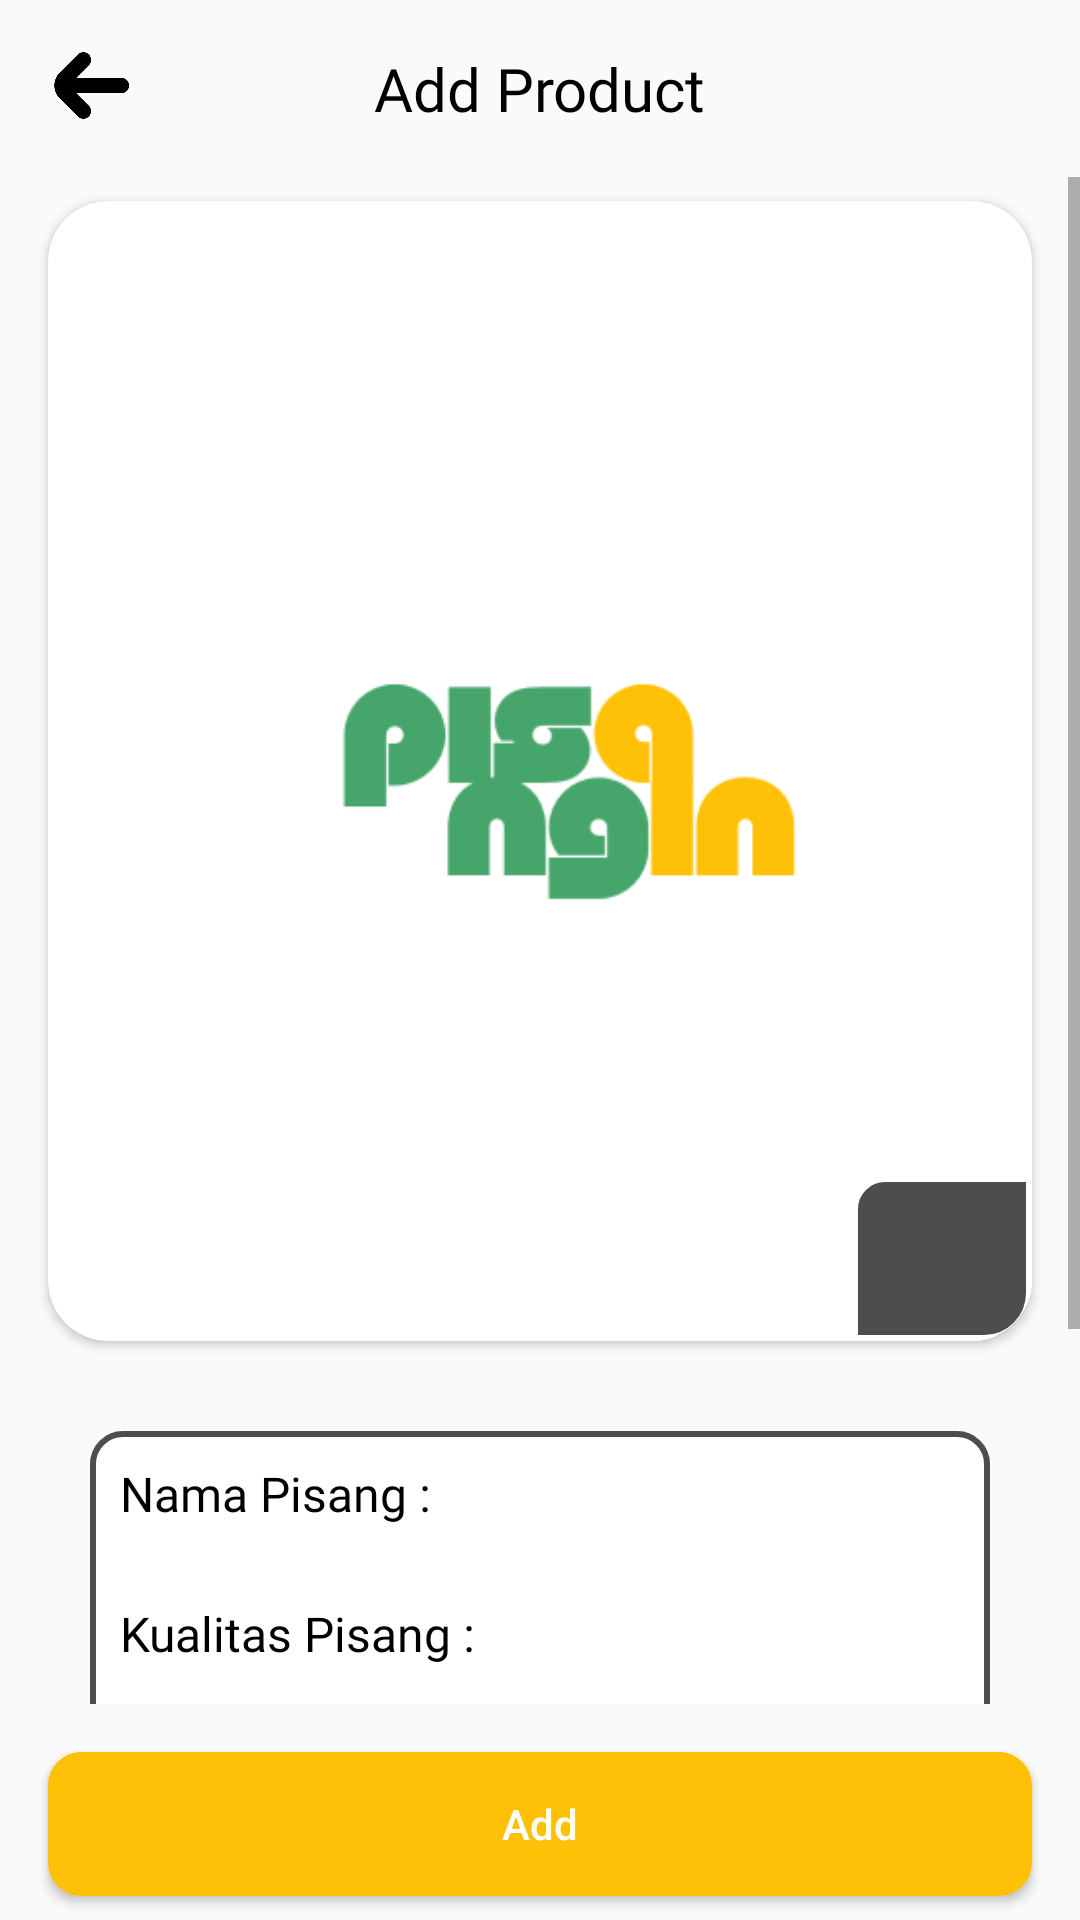

Icon bounding boxes for this 1080px×1920px phone screenshot, format [x1,y1,x2,y2]:
back: [54,52,129,119]
